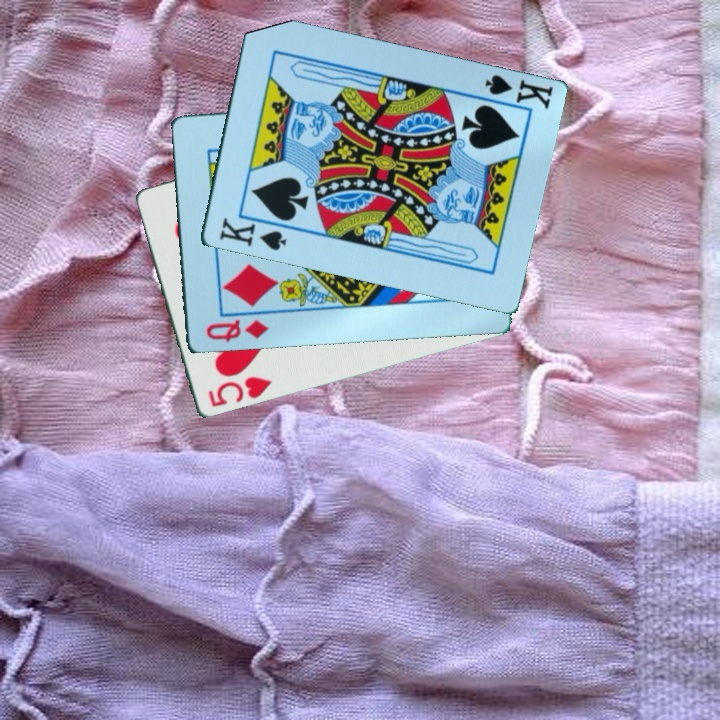5h: (204, 373, 275, 411)
Ks: (480, 71, 556, 113), (215, 214, 289, 254)
Qd: (202, 316, 271, 345)
